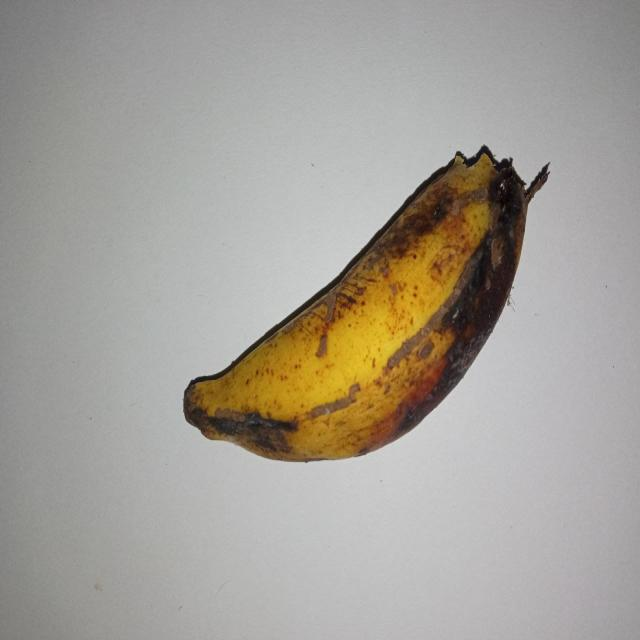rotten_banana: (185, 163, 531, 464)
